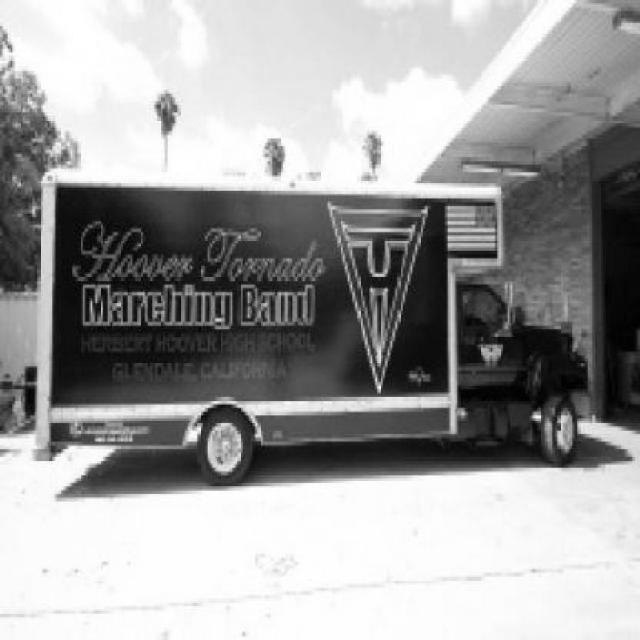Box Truck: (32, 170, 592, 488)
